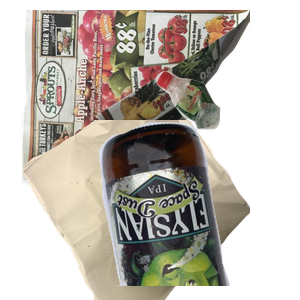glass: (97, 120, 300, 300)
paper: (18, 10, 258, 190)
plastic: (153, 68, 300, 190)
trash: (20, 120, 260, 300)
